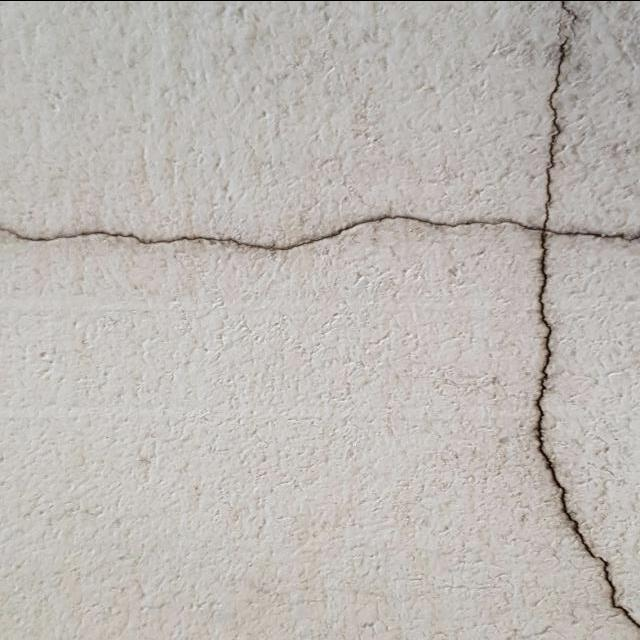SurfaceCrack: (0, 169, 622, 297), (496, 194, 640, 640)
